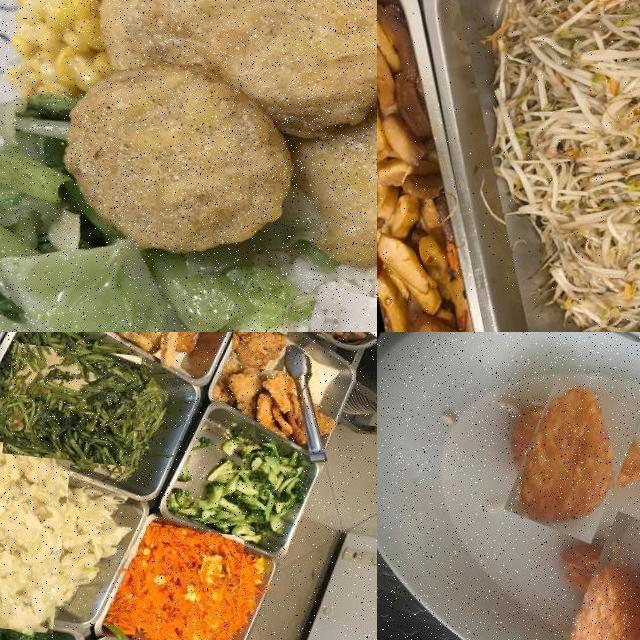carrot_eggs: (128, 530, 249, 640)
chicken_nuggets: (47, 0, 377, 329), (55, 332, 156, 382)
chinese_cabbage: (0, 455, 88, 617)
fried_chicken: (232, 332, 284, 373)
mung_bean_sprouts: (462, 0, 640, 332)
triangle_hash_brown: (495, 381, 640, 537), (540, 520, 640, 640)
water_spinach: (2, 342, 142, 468)
